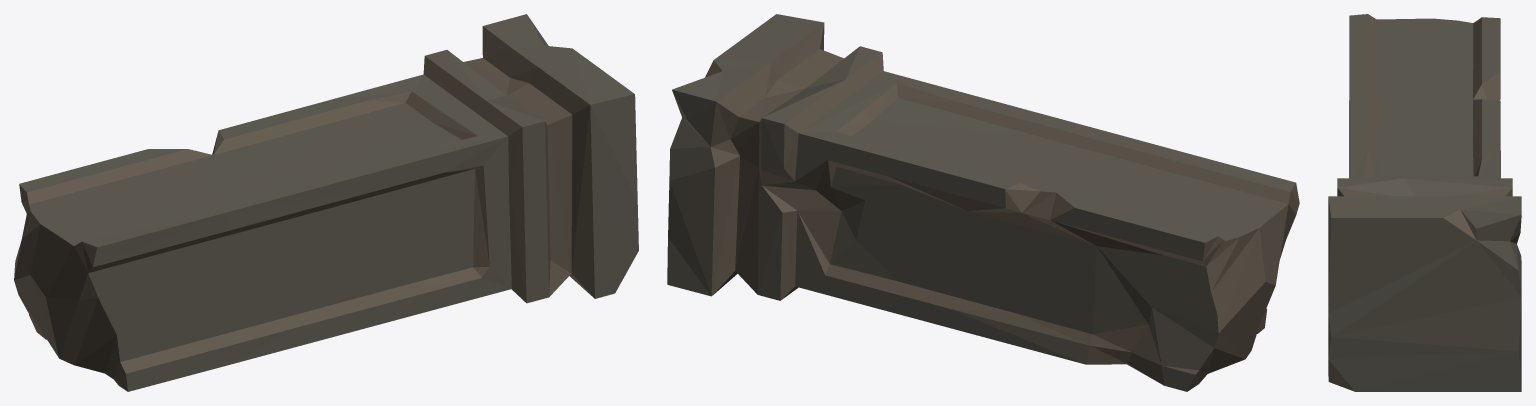
Rendered from synty-prop-pillar-broken-01.gltf.
3 views of the same model, side by side, from view 1: azimuth 30°, elevation 25°; view 2: azimuth 150°, elevation 25°; view 3: azimuth 270°, elevation 25° (orthographic). The views are drawn at different scales.
Visible parts, largest first — view 1: SM_Prop_Pillar_Broken_01; view 2: SM_Prop_Pillar_Broken_01; view 3: SM_Prop_Pillar_Broken_01.
Boxes of the visible parts, x1,y1,x2,y2 form: SM_Prop_Pillar_Broken_01: (14,14,638,391); SM_Prop_Pillar_Broken_01: (667,14,1299,391); SM_Prop_Pillar_Broken_01: (1328,14,1521,391).
Bounding box in the file's own units: 1.5 × 0.5127 × 0.5103.
1 material, 1 textured.
